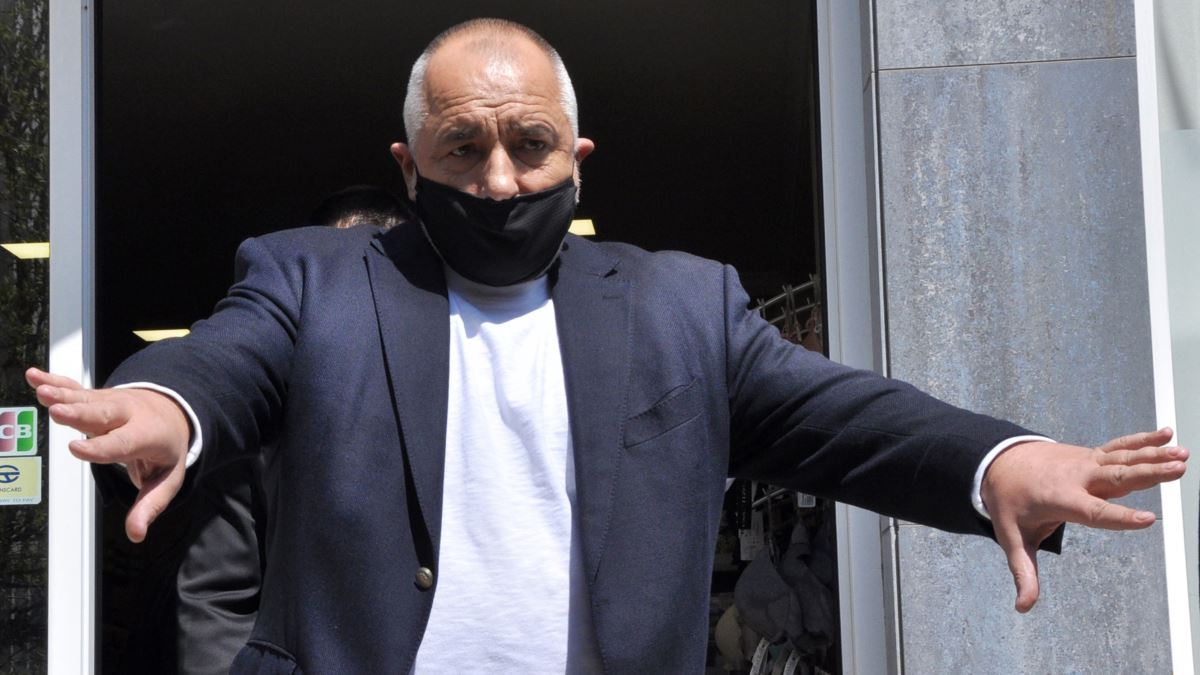WrongMask: (404, 160, 601, 291)
